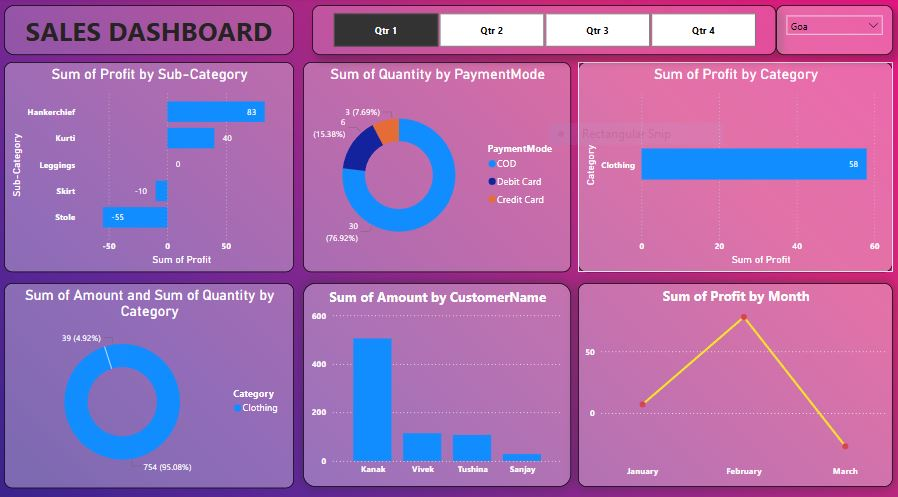

What the dashboard file says about the page in this screenshot:
{"tool":"powerbi","page":{"name":"Page 1","canvas":[1280,720],"ordinal":0},"visuals":[{"type":"textbox","box":[9.9,9.9,411,70.9],"z":0},{"type":"barChart","fields":{"Category":["Details.Sub-Category"],"Y":["Sum(Details.Profit)"]},"box":[9.9,90.7,411,297.6],"z":1000},{"type":"donutChart","fields":{"Category":["Details.PaymentMode"],"Y":["Sum(Details.Quantity)"]},"box":[433.7,90.7,379.8,297.6],"z":2000},{"type":"barChart","fields":{"Y":["Sum(Details.Profit)"],"Category":["Details.Category"]},"box":[823.5,90.7,446.5,297.6],"z":3000},{"type":"donutChart","fields":{"Y":["Sum(Details.Amount)","Sum(Details.Quantity)"],"Category":["Details.Category"]},"box":[9.9,403.9,411,290.6],"z":4000},{"type":"lineStackedColumnComboChart","fields":{"Category":["Orders.CustomerName"],"Y":["Sum(Details.Amount)"]},"box":[433.7,403.9,379.8,289.1],"z":5000},{"type":"lineChart","fields":{"Y":["Sum(Details.Profit)"],"Category":["Orders.Order Date.Variation.Date Hierarchy.Month"]},"box":[823.5,403.9,446.5,289.1],"z":6000},{"type":"slicer","fields":{"Values":["Orders.Order Date.Variation.Date Hierarchy.Quarter"]},"box":[446.5,9.9,657.6,70.9],"z":7000},{"type":"slicer","fields":{"Values":["Orders.State"]},"box":[1104.1,9.9,165.8,70.9],"z":8000}]}

Visuals, with their boxes in screenshot pixels (x1, y1, x2, y2), scaled from the page's 1280x720 canvas onto the 898x497 screenshot:
textbox: <box>7,7,295,56</box>
barChart - Details.Sub-Category x Sum(Details.Profit): <box>7,63,295,268</box>
donutChart - Details.PaymentMode x Sum(Details.Quantity): <box>304,63,571,268</box>
barChart - Sum(Details.Profit) x Details.Category: <box>578,63,891,268</box>
donutChart - Sum(Details.Amount) x Sum(Details.Quantity): <box>7,279,295,479</box>
lineStackedColumnComboChart - Orders.CustomerName x Sum(Details.Amount): <box>304,279,571,478</box>
lineChart - Sum(Details.Profit) x Orders.Order Date.Variation.Date Hierarchy.Month: <box>578,279,891,478</box>
slicer - Orders.Order Date.Variation.Date Hierarchy.Quarter: <box>313,7,775,56</box>
slicer - Orders.State: <box>775,7,891,56</box>
